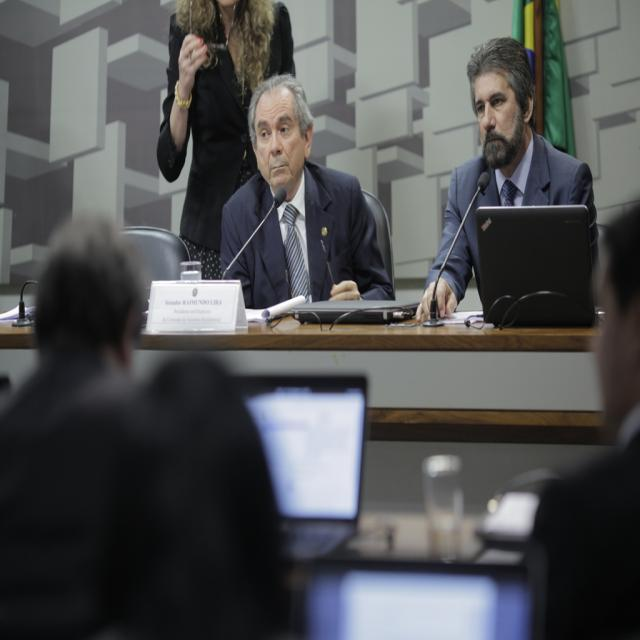Laptop: (232, 370, 368, 568), (476, 202, 599, 325), (292, 298, 422, 326)
